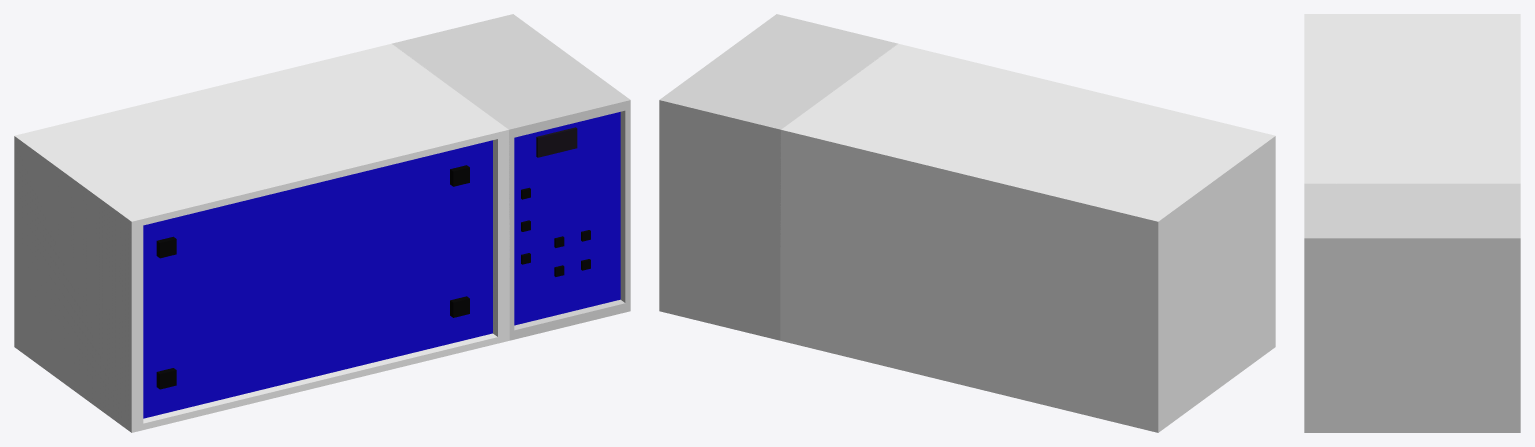
The model's file is airpur.fbx.
3 views of the same model, side by side, from view 1: azimuth 30°, elevation 25°; view 2: azimuth 150°, elevation 25°; view 3: azimuth 270°, elevation 25° (orthographic). The views are drawn at different scales.
Visible parts, largest first — view 1: Cube, Cube.002, Cube.001, Cube.003, Cube.008, Cube.007; view 2: Cube.002, Cube.001; view 3: Cube.001, Cube.002.
Boxes of the visible parts, bbox=[...] form: Cube: bbox=[143, 112, 620, 418]; Cube.002: bbox=[14, 43, 509, 432]; Cube.001: bbox=[392, 14, 630, 340]; Cube.003: bbox=[536, 127, 577, 157]; Cube.008: bbox=[156, 236, 176, 389]; Cube.007: bbox=[450, 165, 469, 317]; Cube.002: bbox=[780, 43, 1275, 432]; Cube.001: bbox=[659, 14, 897, 340]; Cube.001: bbox=[1304, 183, 1520, 432]; Cube.002: bbox=[1304, 14, 1520, 183].
Bounding box in the file's own units: 516 × 208 × 210.
